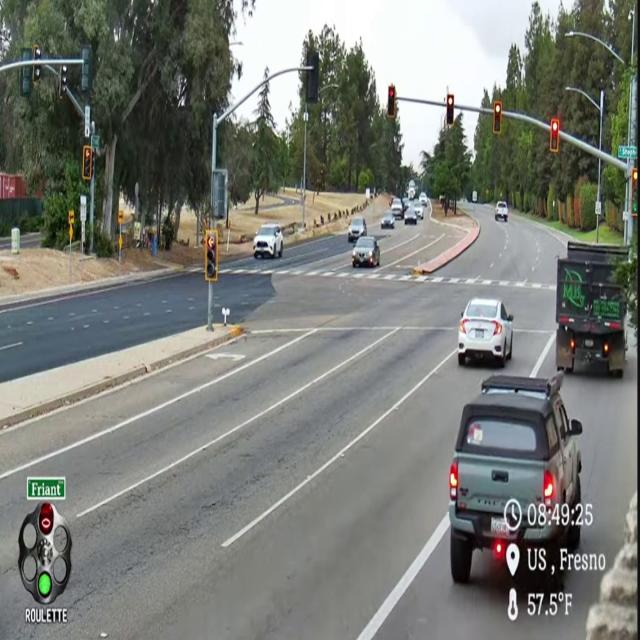car: (449, 373, 592, 591), (458, 298, 513, 367), (253, 223, 283, 259), (352, 237, 379, 268), (348, 217, 366, 243), (495, 201, 509, 222), (381, 211, 395, 229), (391, 198, 403, 219), (404, 208, 417, 224), (413, 203, 423, 220), (401, 198, 410, 212), (419, 192, 427, 206), (408, 187, 416, 201)
traffic signal: (306, 50, 319, 103), (205, 230, 217, 281), (81, 46, 91, 94), (82, 145, 94, 181), (20, 66, 32, 96), (58, 65, 68, 99), (387, 85, 396, 119), (493, 101, 502, 135), (550, 119, 559, 152), (631, 168, 637, 216), (446, 95, 454, 126), (33, 64, 41, 83), (632, 167, 638, 189)
truck: (556, 241, 628, 377), (408, 186, 415, 200)
